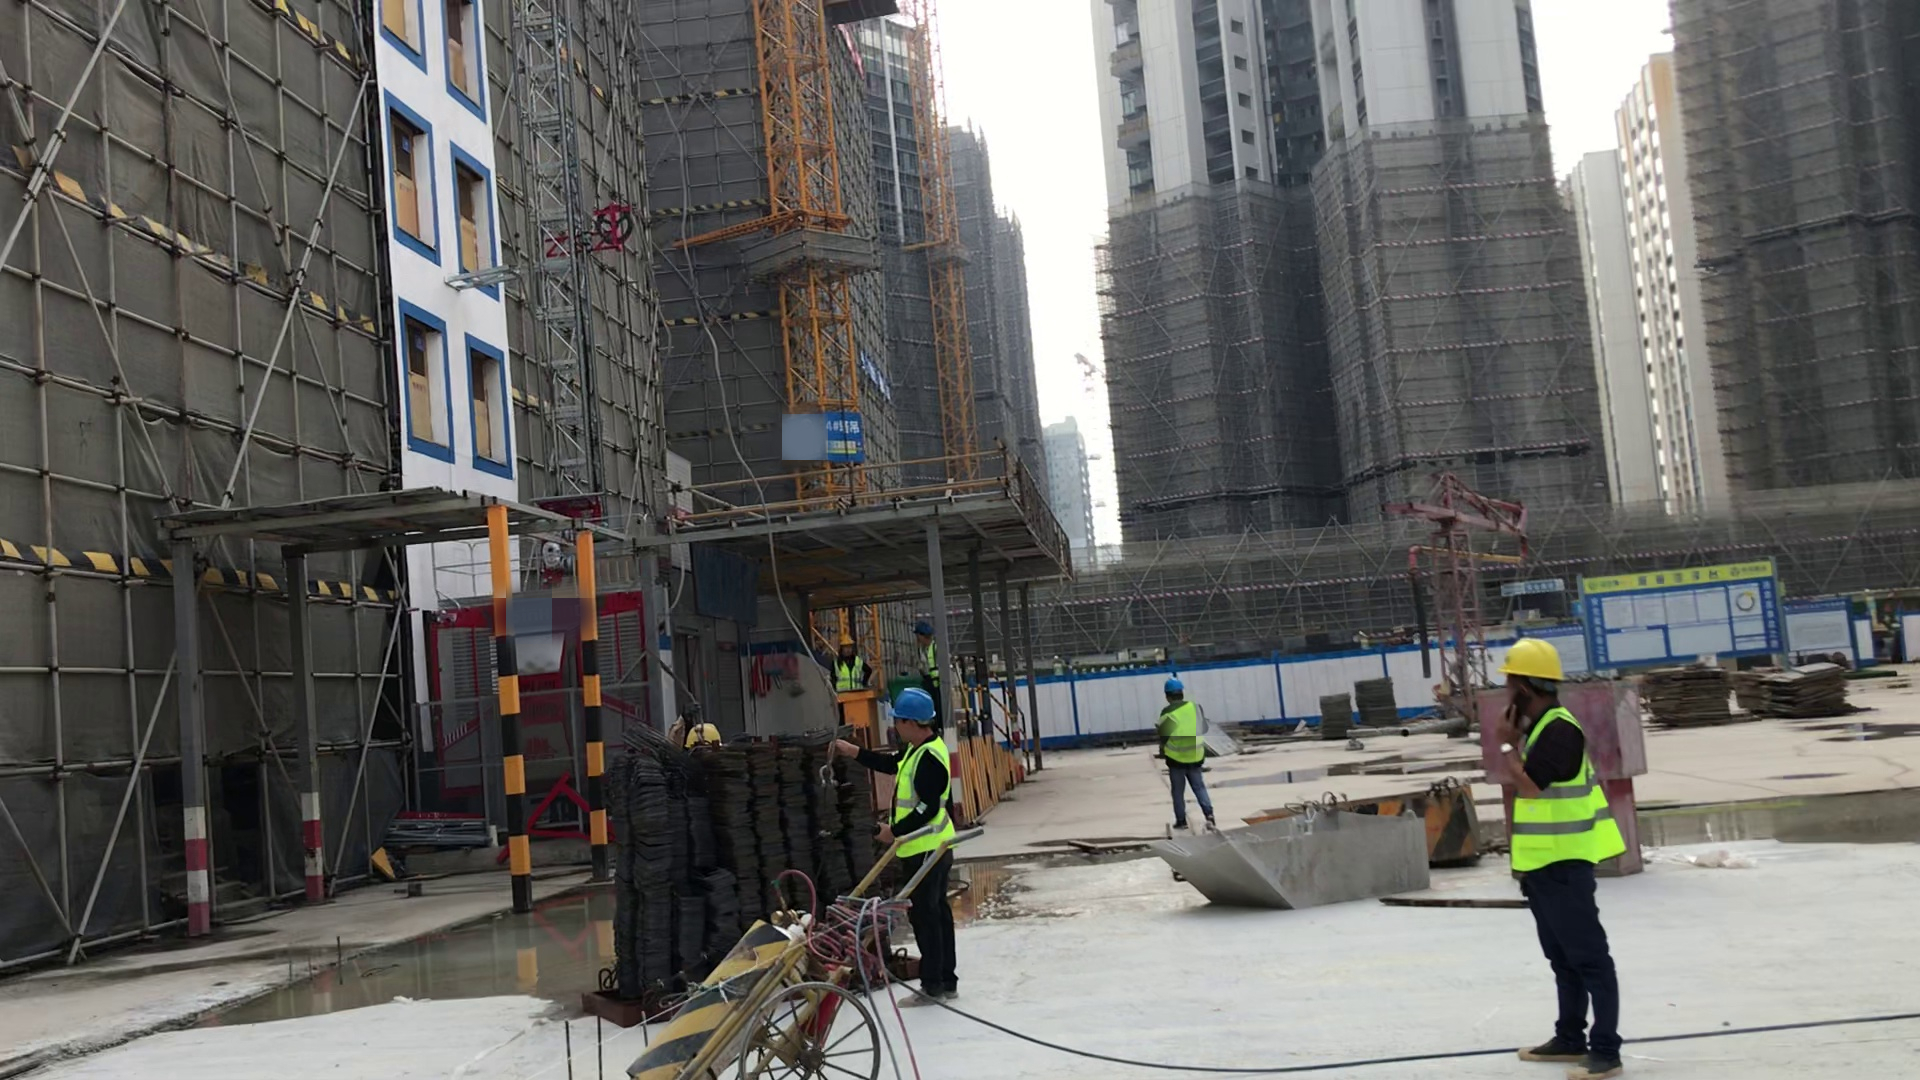board: (1746, 654, 1852, 722), (1639, 659, 1731, 723), (1346, 661, 1404, 746), (1310, 682, 1359, 749)
fence: (931, 635, 1064, 784)
handcart: (578, 893, 871, 1080)
helmet: (1499, 631, 1564, 686), (891, 683, 937, 727), (687, 721, 719, 745), (1159, 671, 1189, 695), (913, 618, 934, 636), (836, 632, 858, 645)
hopper: (1142, 804, 1435, 914)
person: (1492, 632, 1654, 1080), (828, 691, 977, 1013), (1154, 674, 1229, 846), (825, 621, 873, 702), (907, 614, 944, 692)
slogan: (850, 339, 903, 400)
vest: (1500, 706, 1628, 879), (884, 741, 963, 859), (1160, 702, 1210, 771), (829, 655, 866, 697), (917, 638, 942, 686)
